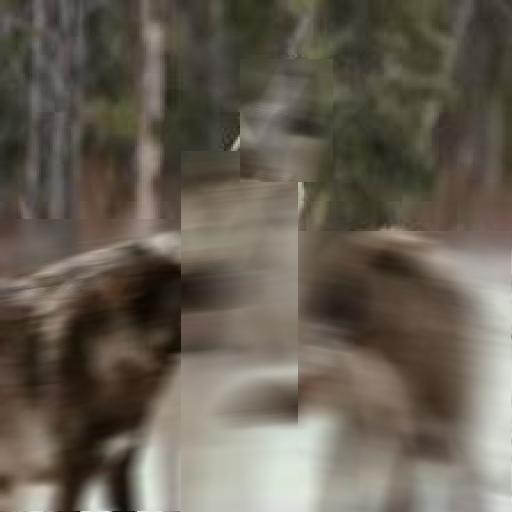wolf: (0, 219, 249, 511), (267, 231, 511, 512), (181, 151, 298, 512), (240, 59, 333, 182)
